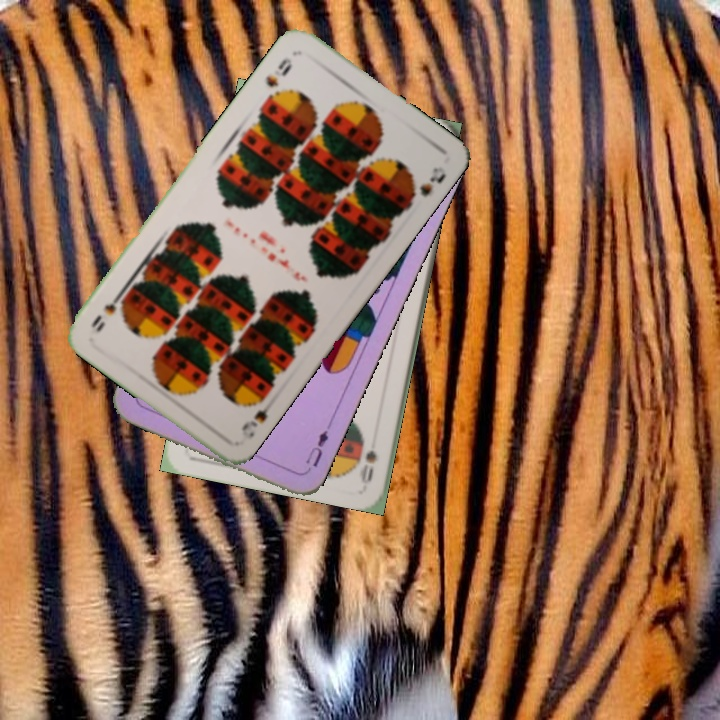EU: (301, 426, 331, 470)
S9: (237, 390, 279, 441), (261, 54, 295, 91)
SO: (356, 445, 380, 486)
